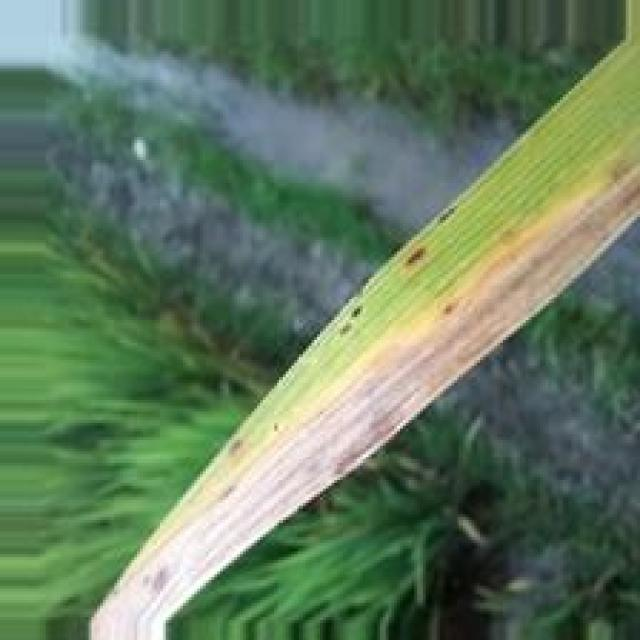Rice False Smut: (94, 164, 640, 626)
